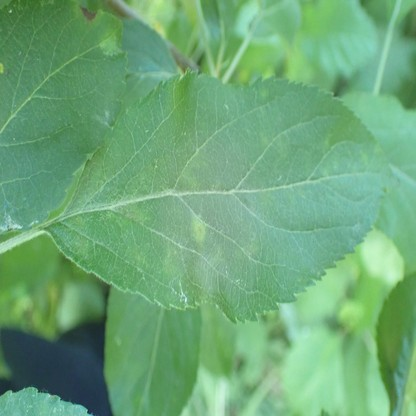scab: (109, 201, 148, 223), (74, 4, 101, 27), (162, 248, 178, 277), (192, 216, 205, 244), (74, 235, 89, 257), (259, 84, 269, 97), (261, 135, 269, 147)
